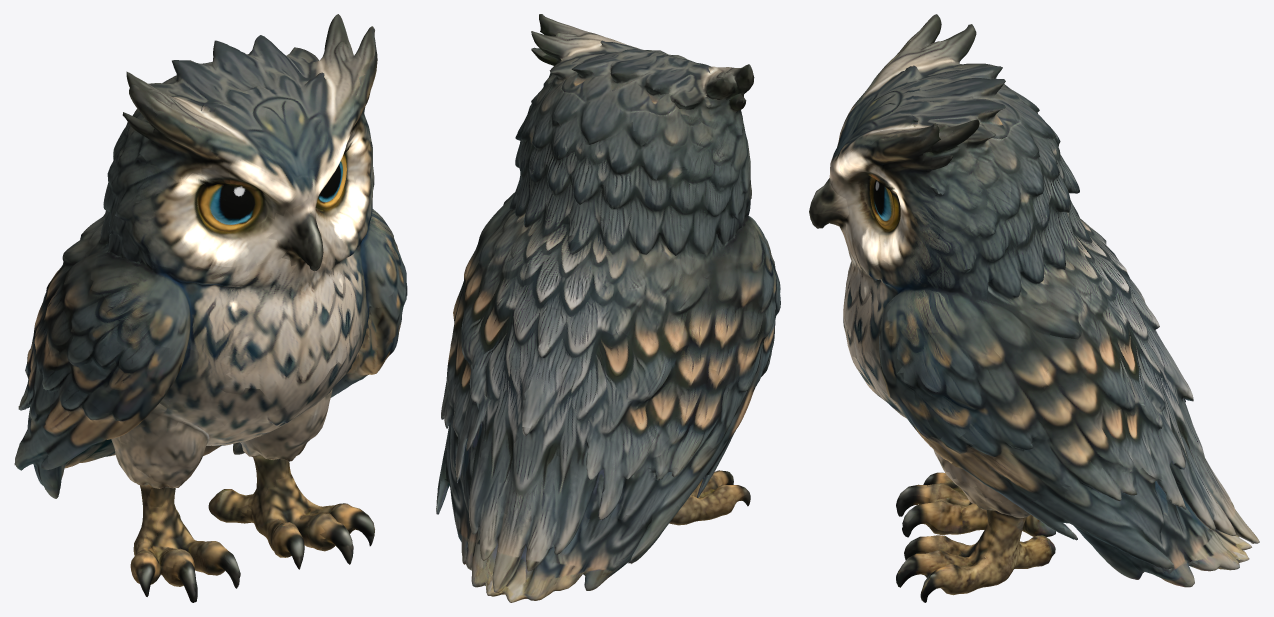
The picture shows the model from 3 angles, left to right: view 1: azimuth 30°, elevation 25°; view 2: azimuth 150°, elevation 25°; view 3: azimuth 270°, elevation 25°; orthographic projection. The views are drawn at different scales.
Visible parts, largest first — view 1: mesh_node; view 2: mesh_node; view 3: mesh_node.
Boxes of the visible parts, left/top/right/bottom form: mesh_node: left=14, top=14, right=407, bottom=602; mesh_node: left=436, top=14, right=780, bottom=602; mesh_node: left=809, top=14, right=1259, bottom=602.
Size of the model in its own units: 1.32 by 2 by 1.68.
Materials: 1 (1 with a texture image).
